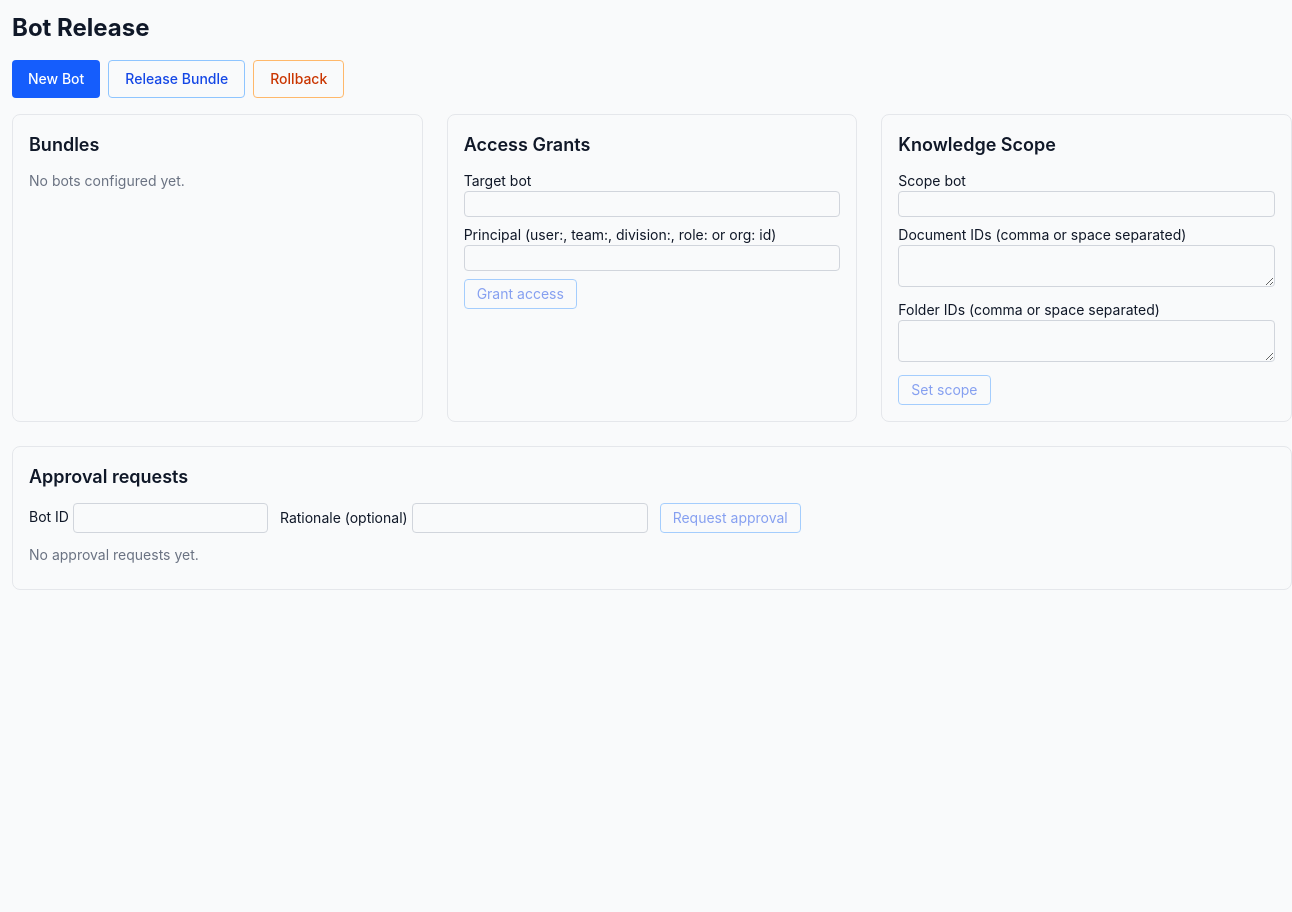
Scenario: BotReleaseScreen › shows a generic error without server text when bot creation fails
The image size is (1292, 912).
Expected: the text "No approval requests yet." is shown, [29,546,199,563]
Click the button "New Bot" at (56, 79), box [12,60,100,98]
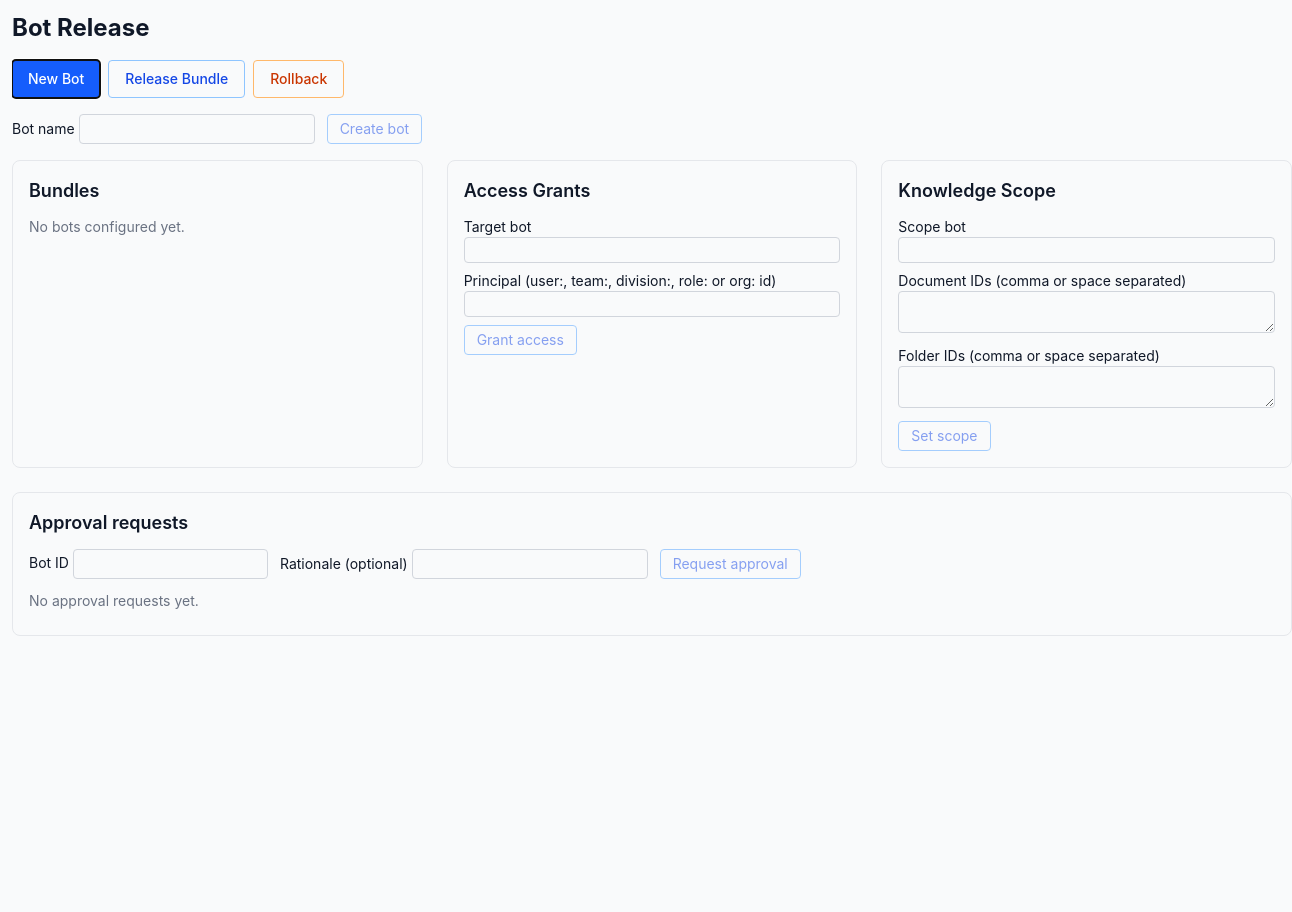
Type "X" into the field labelled "Bot name" at (197, 129), box [79,114,315,144]
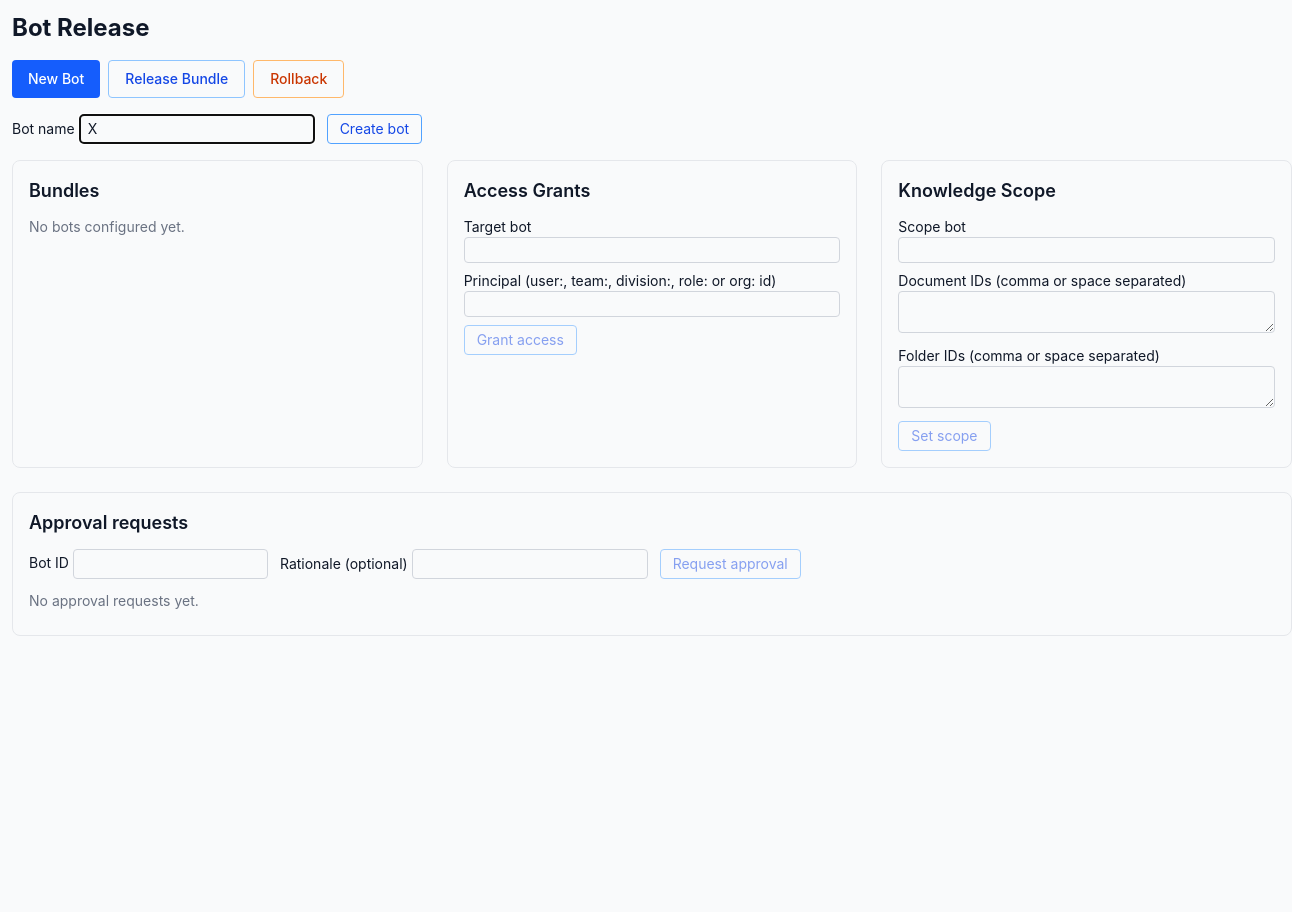
Click the button "Create bot" at (374, 129), box [327,114,422,144]
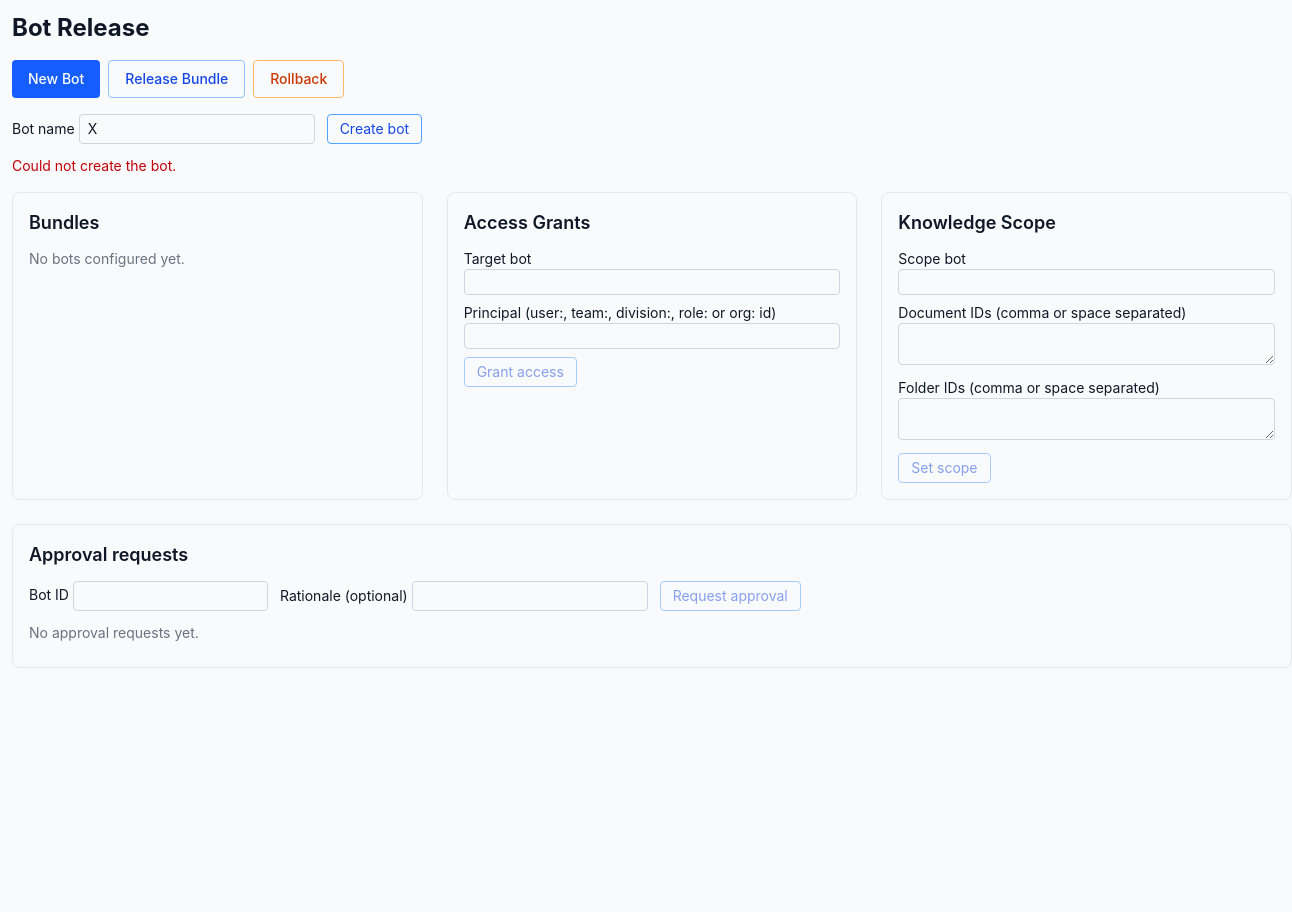
Expected: the text "Could not create the bot." is shown, [12,157,176,174]
